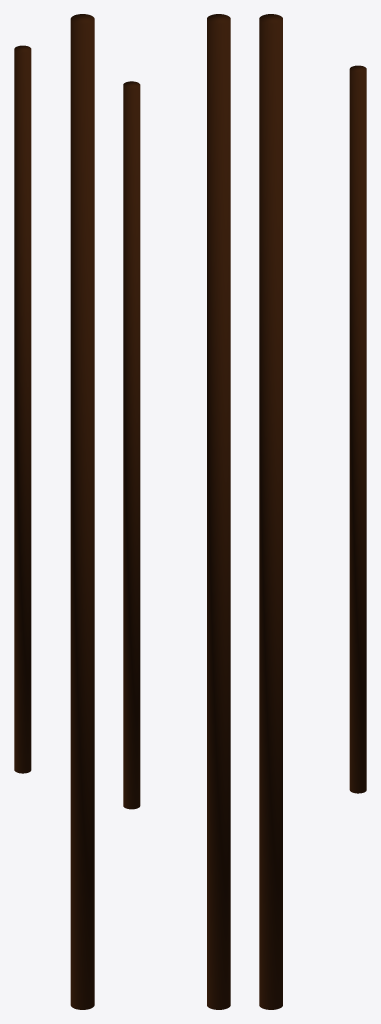
Rendered from static trees.fbx.
3 views of the same model, side by side, from view 1: azimuth 90°, elevation 25°; view 2: azimuth 150°, elevation 25°; view 3: azimuth 330°, elevation 25° (orthographic).
Visible parts, largest first — view 1: Cylinder.003, Cylinder.004; view 2: Cylinder.003, Cylinder.004; view 3: Cylinder.003, Cylinder.004.
Part boxes in pixels (left/top/right/bottom): Cylinder.003: left=70, top=14, right=94, bottom=1009; Cylinder.004: left=14, top=45, right=31, bottom=773; Cylinder.003: left=207, top=14, right=230, bottom=1009; Cylinder.004: left=123, top=81, right=140, bottom=809; Cylinder.003: left=259, top=14, right=282, bottom=1009; Cylinder.004: left=349, top=65, right=366, bottom=793.
Size of the model in its own units: 926 by 11636 by 859.
